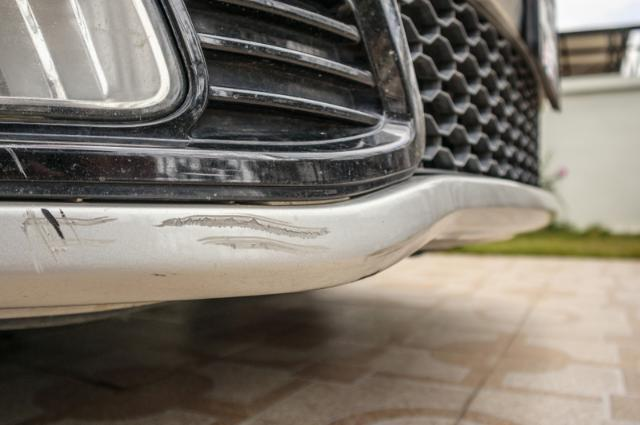Bumper: (0, 129, 385, 299)
